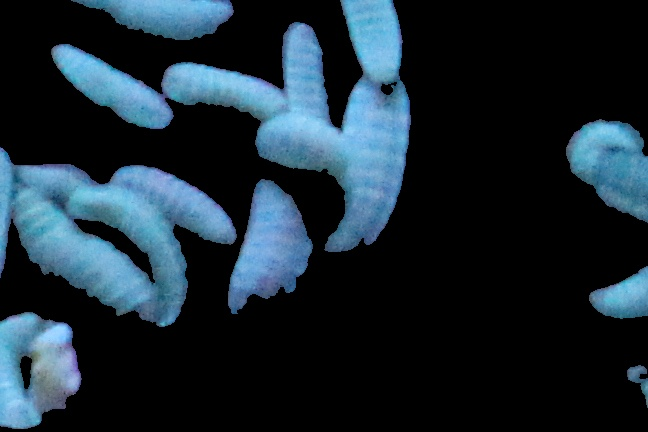larvae: (13, 185, 154, 323), (71, 184, 188, 326), (327, 78, 407, 256), (224, 178, 314, 330), (111, 158, 235, 245), (51, 43, 158, 126), (37, 1, 236, 40), (162, 60, 278, 115), (331, 1, 404, 84), (254, 119, 348, 177), (1, 311, 41, 432), (283, 23, 324, 117)
